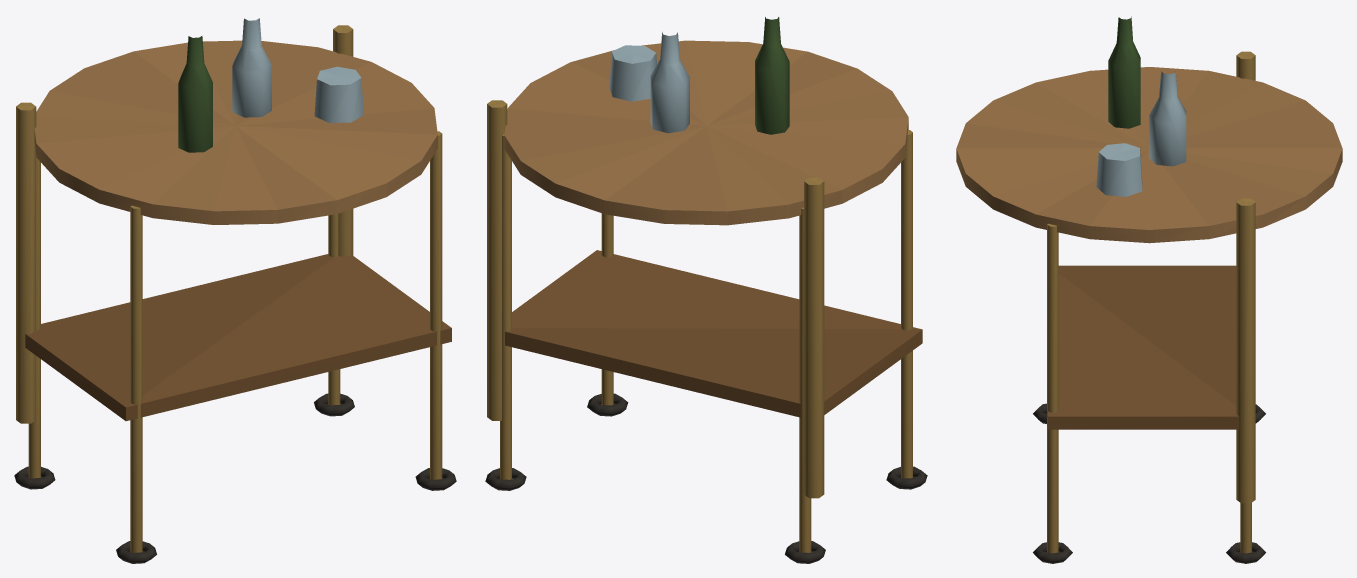
Rendered from bar_cart.glb.
3 views of the same model, side by side, from view 1: azimuth 30°, elevation 25°; view 2: azimuth 150°, elevation 25°; view 3: azimuth 270°, elevation 25° (orthographic). The views are drawn at different scales.
Visible parts, largest first — view 1: bar_cart; view 2: bar_cart; view 3: bar_cart.
Part boxes in pixels (x1,y1,x2,y2): bar_cart: [14, 18, 456, 563]; bar_cart: [485, 17, 927, 563]; bar_cart: [956, 16, 1342, 563].
Size of the model in its own units: 0.8 by 1.02 by 0.8.
